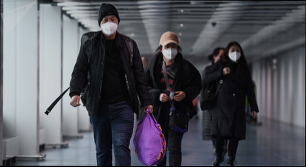with_mask: (99, 14, 119, 37), (161, 43, 178, 61), (227, 46, 242, 62)
